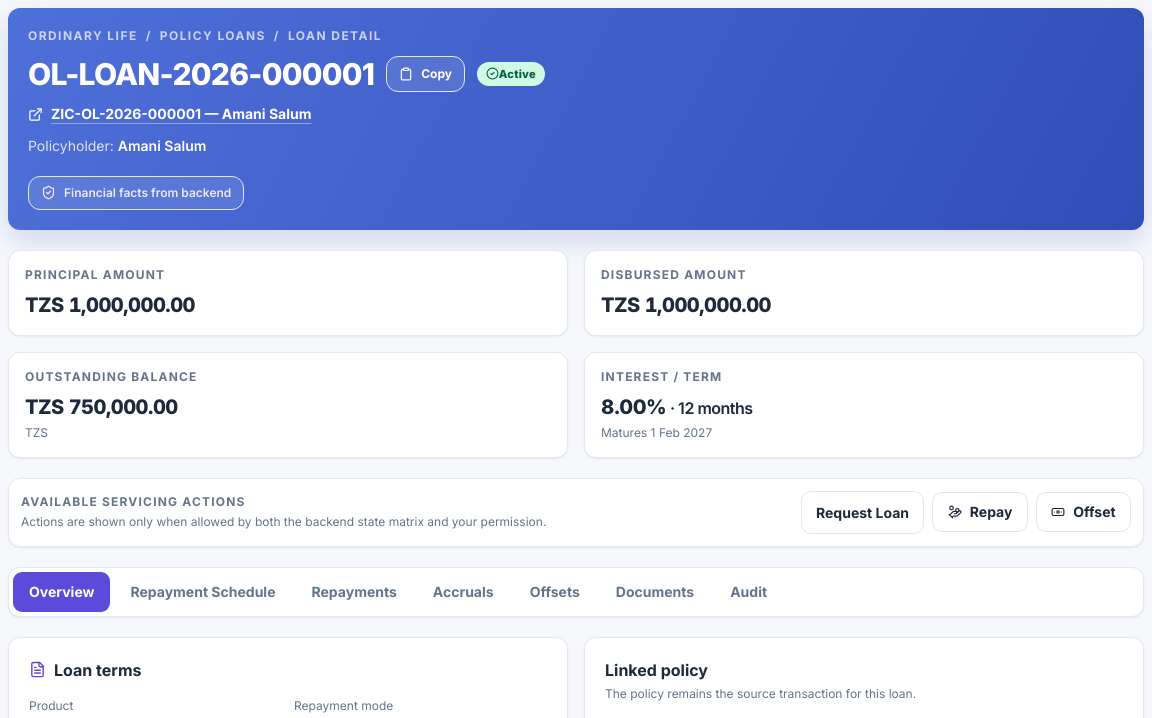
it: OL Loan detail Prompt 3 › navigates from the visible policy link without exposing a raw internal id
Click the button "ZIC-OL-2026-000001 — Amani Salum" at point(170, 114), box left=28, top=104, right=312, bottom=124
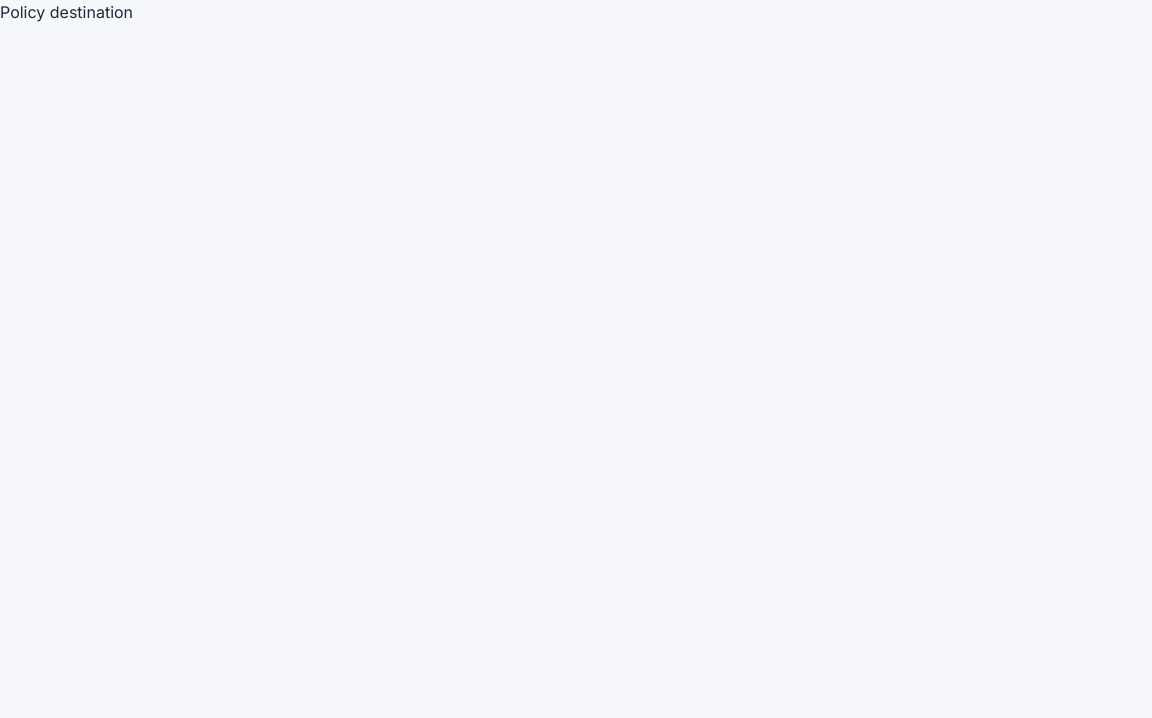
Now the text "Policy destination" is shown, box left=0, top=2, right=133, bottom=22
